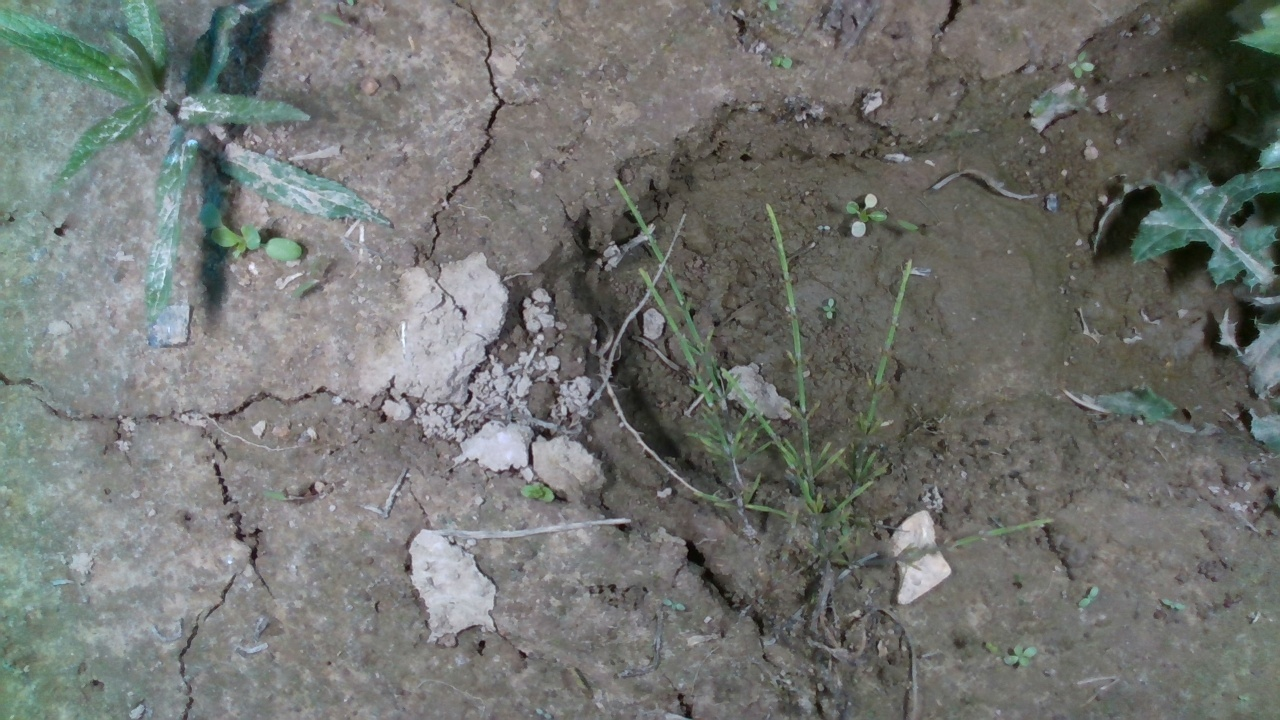weed: (209, 224, 303, 259), (840, 192, 888, 238), (763, 46, 796, 77), (513, 480, 558, 502), (1067, 49, 1092, 84), (998, 645, 1039, 666), (1076, 586, 1099, 609), (1153, 597, 1191, 610)
